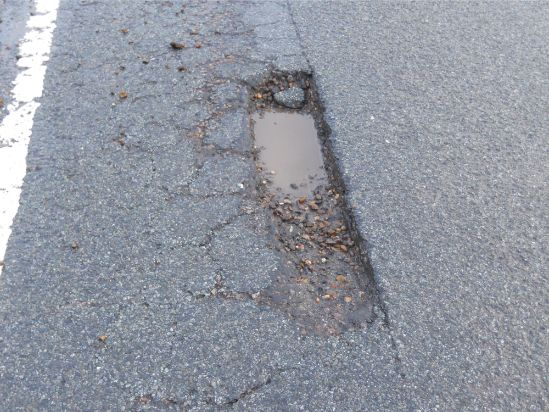pothole: (242, 63, 383, 338)
